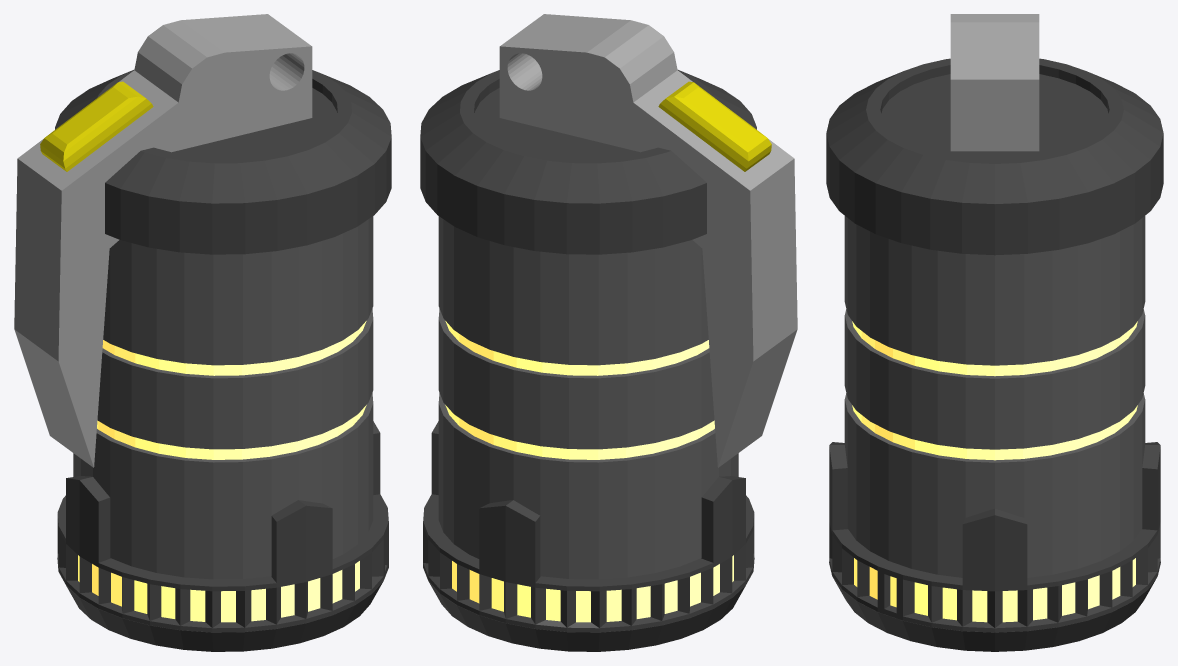
The model's file is sci-fi_incendiary_grenade.glb.
3 renders of one model, left to right at view 1: azimuth 30°, elevation 25°; view 2: azimuth 150°, elevation 25°; view 3: azimuth 270°, elevation 25°, orthographic.
Parts seen in each view (by area): view 1: Cube_0; view 2: Cube_0; view 3: Cube_0.
Boxes of the visible parts, x1,y1,x2,y2 form: Cube_0: (14, 14, 391, 651); Cube_0: (420, 14, 797, 651); Cube_0: (826, 14, 1163, 651).
Size of the model in its own units: 2.28 by 3.64 by 2.
